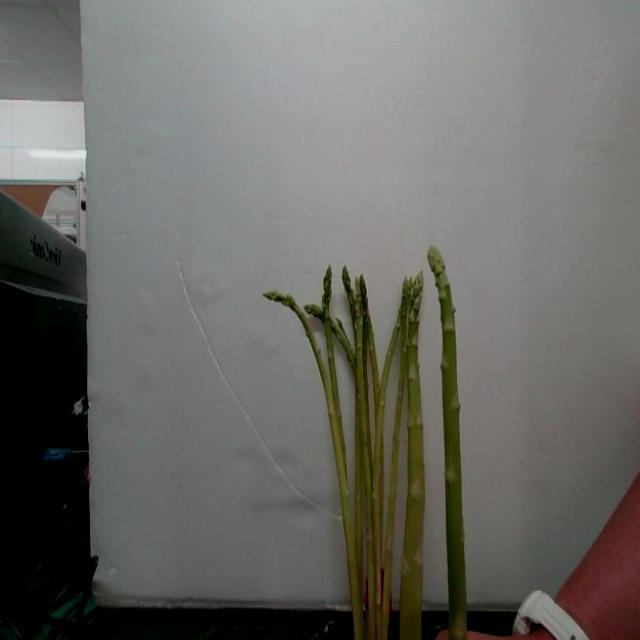aspargus: (429, 248, 469, 640)
